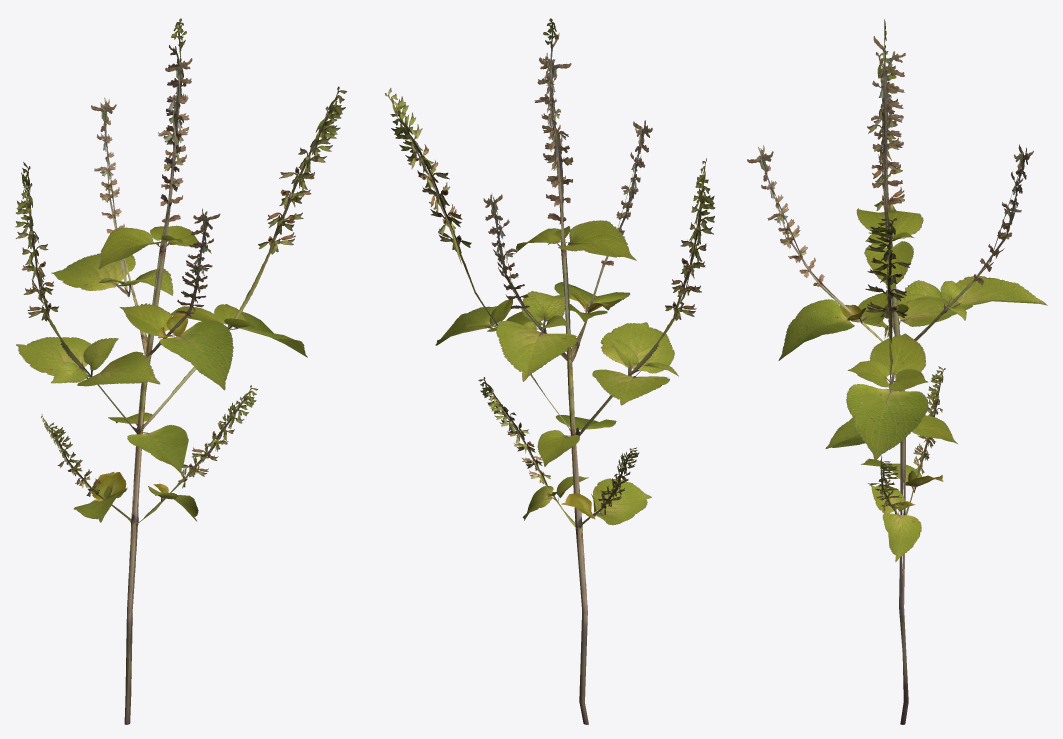
Rendered from shrub.glb.
3 renders of one model, left to right at view 1: azimuth 30°, elevation 25°; view 2: azimuth 150°, elevation 25°; view 3: azimuth 270°, elevation 25°, orthographic. The views are drawn at different scales.
Parts seen in each view (by area): view 1: shrub_03_a; view 2: shrub_03_a; view 3: shrub_03_a.
Part boxes in pixels (x1,y1,x2,y2): shrub_03_a: (15,18,346,724); shrub_03_a: (385,18,715,724); shrub_03_a: (747,19,1047,724).
Size of the model in its own units: 0.2006 by 0.4028 by 0.1512.
1 material, 1 textured.
